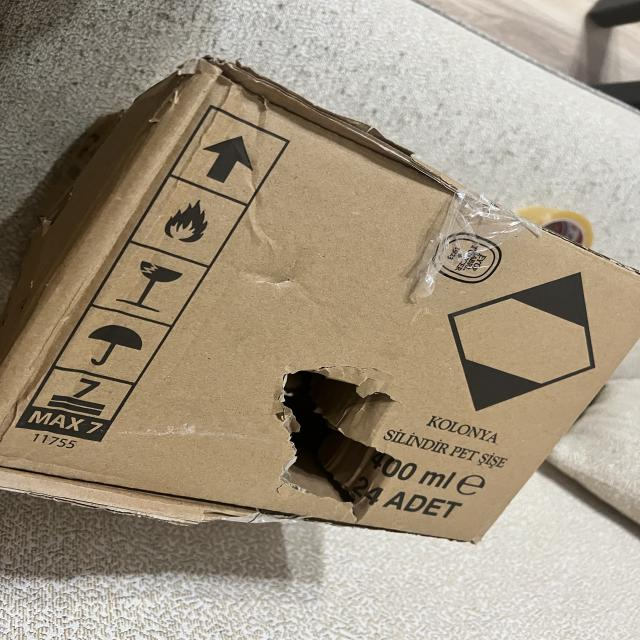damaged: (0, 62, 640, 549), (248, 346, 410, 524)
